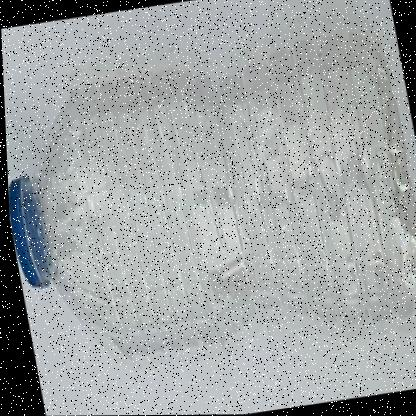bottle cap: (3, 57, 155, 387)
